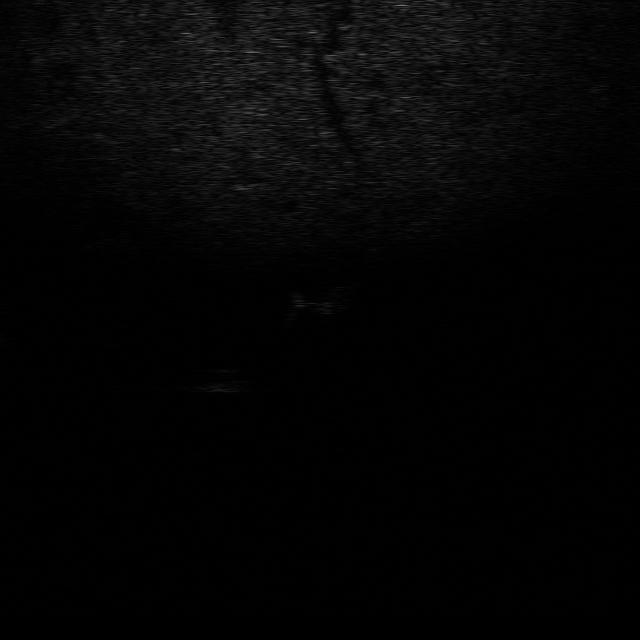ball: (203, 364, 255, 394)
human body: (280, 274, 369, 322)
